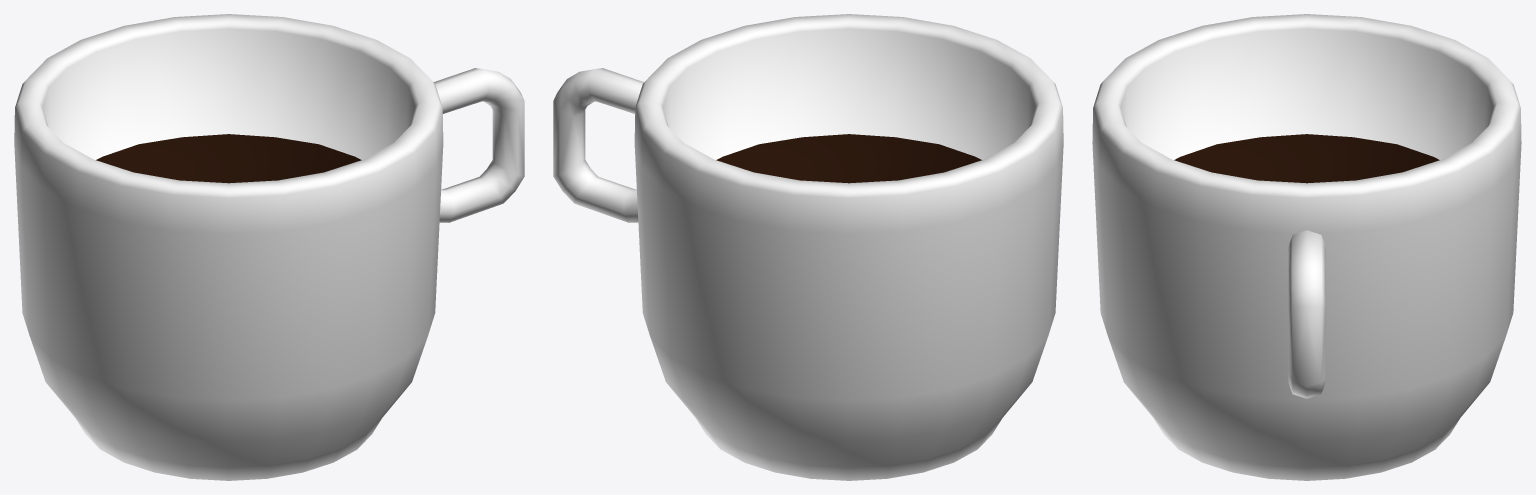
File: Coffee_Cup_2.fbx
The picture shows the model from 3 angles, left to right: view 1: azimuth 30°, elevation 25°; view 2: azimuth 150°, elevation 25°; view 3: azimuth 270°, elevation 25°; orthographic projection.
Visible parts, largest first — view 1: Coffee_Cup_2; view 2: Coffee_Cup_2; view 3: Coffee_Cup_2.
Boxes of the visible parts, box(x1,y1,x2,y2) form: Coffee_Cup_2: box(14, 14, 524, 480); Coffee_Cup_2: box(553, 14, 1063, 480); Coffee_Cup_2: box(1092, 14, 1521, 480).
Bounding box in the file's own units: 11.06 × 6.98 × 8.6.
